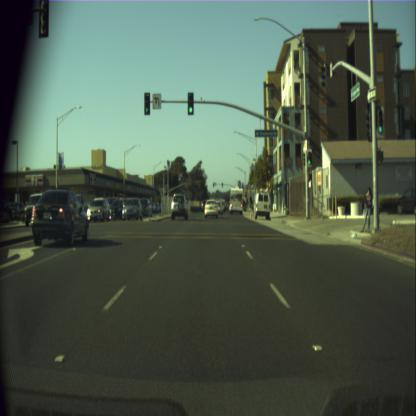Green: (377, 109, 383, 133), (187, 92, 193, 114), (307, 152, 311, 164)
GreenLeft: (144, 92, 150, 114)
